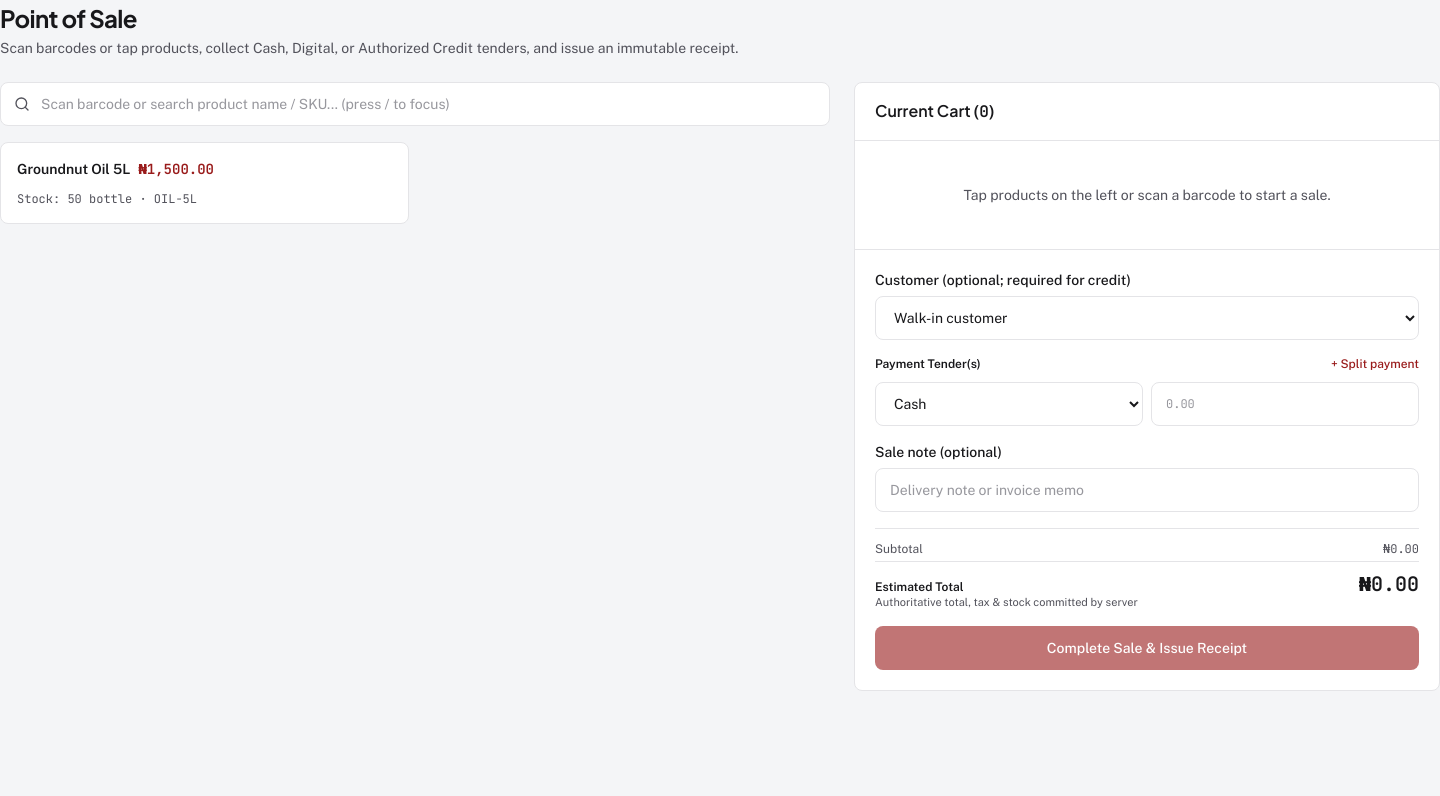
Test case: POS & Sales UI Verification › pins the same Idempotency-Key across a failed checkout retry, shows change due, updates stock live, and displays committed receipt
The image size is (1440, 796).
Expected: the text "Groundnut Oil 5L" is shown, [17, 159, 130, 179]
Expected: the text "Stock: 50 bottle · OIL-5L" is shown, [17, 191, 197, 207]
Add product and set quantity directly to 5
Click the button "Groundnut Oil 5L ₦1,500.00 Stock: 50 bottle · OIL-5L" at coordinates (74, 169), box [0, 142, 409, 224]
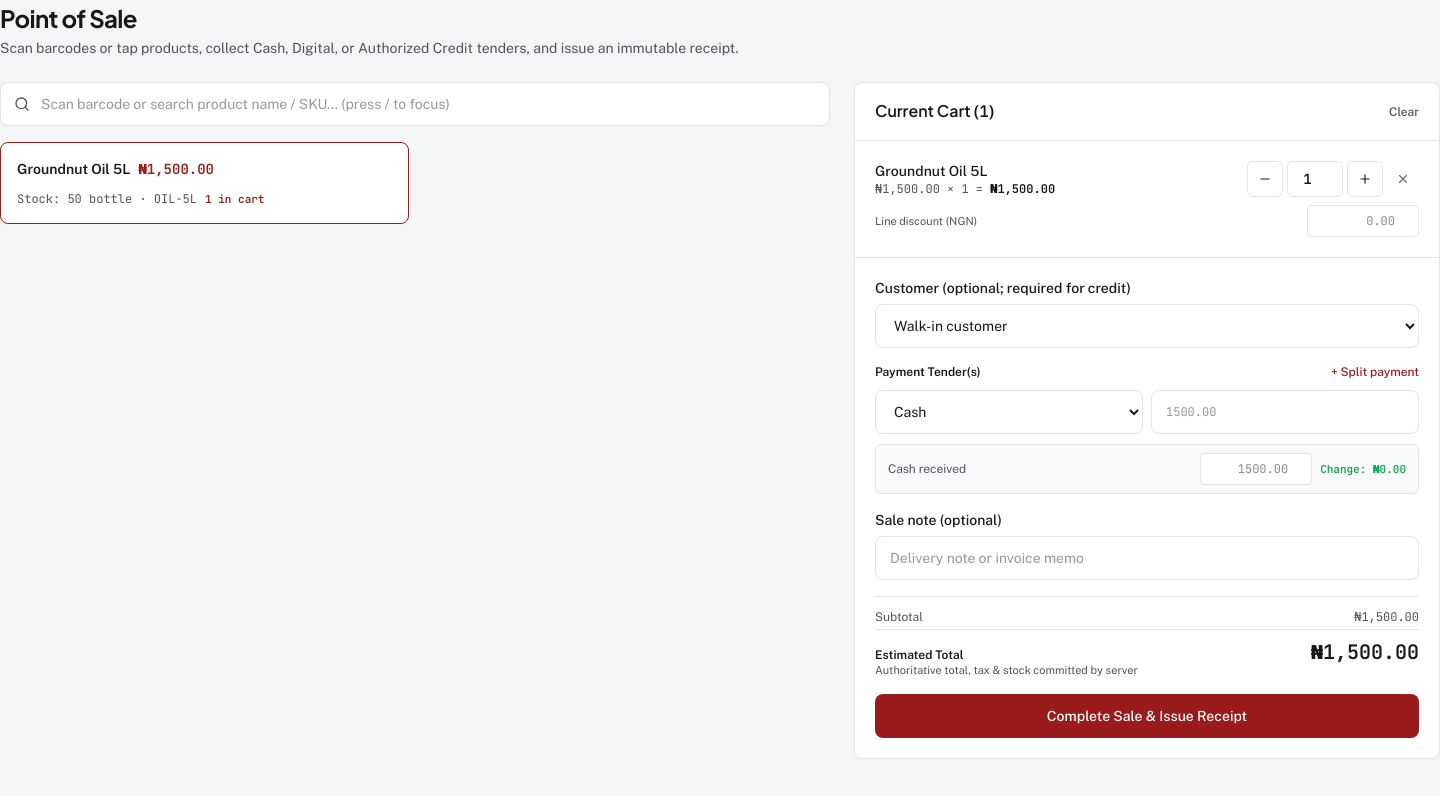
Replace the text in the number field named "Quantity for Groundnut Oil 5L" with "5" at coordinates (1315, 179), box [1287, 161, 1343, 197]
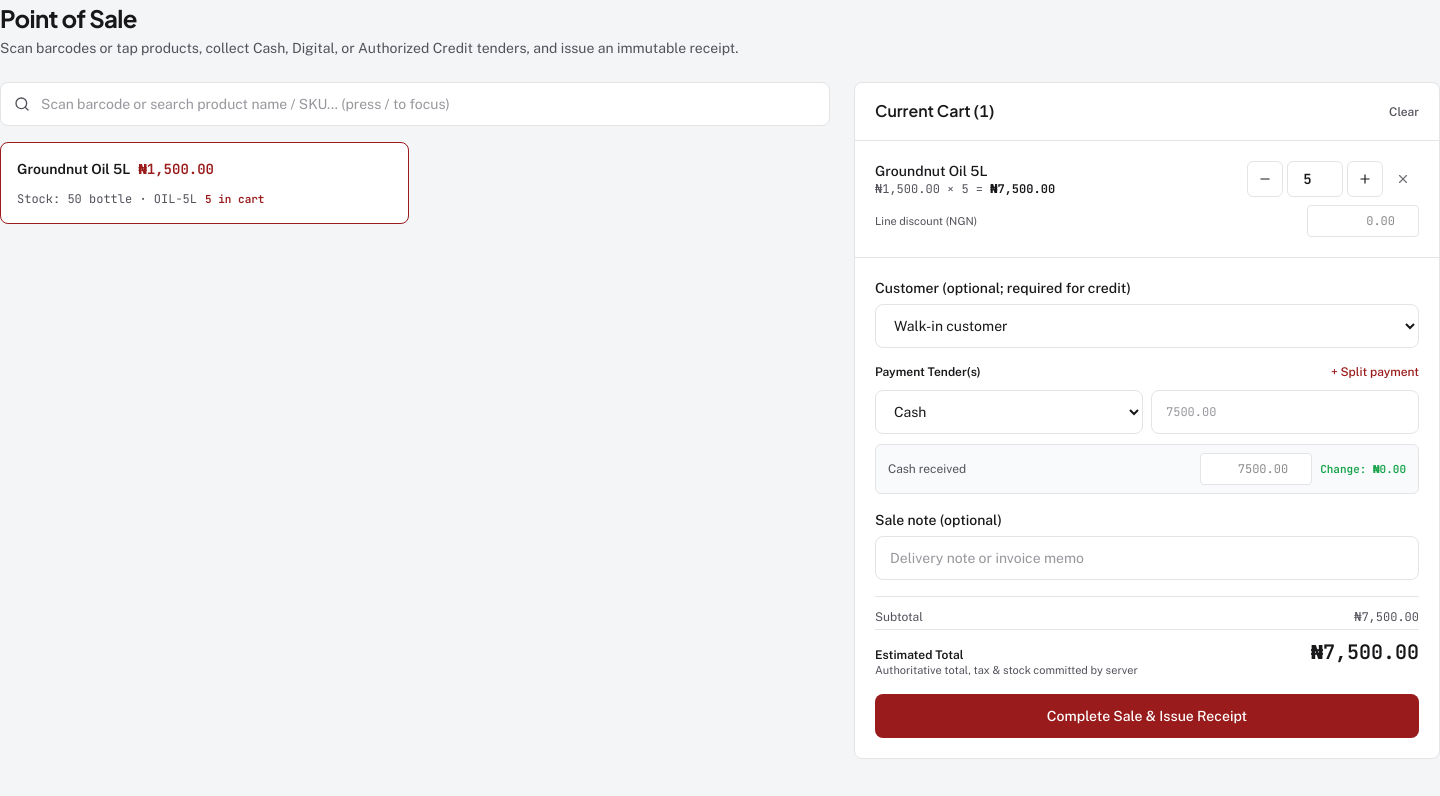
Type "10000" into the number field labelled "Cash received" at coordinates (1256, 469), box [1200, 453, 1312, 485]
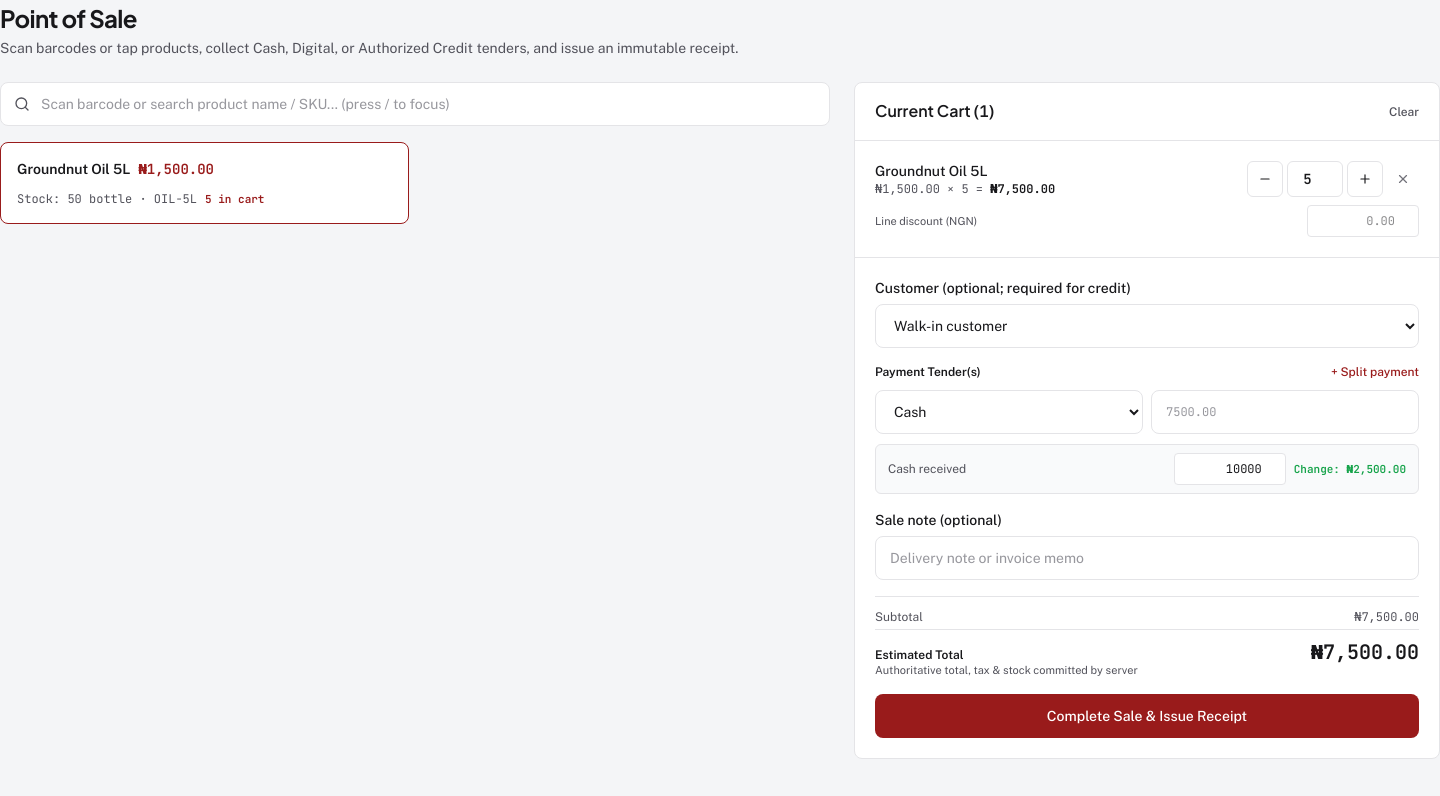
Expected: the text "Change: ₦2,500.00" is shown, [1294, 462, 1406, 476]
First click fails transiently
Click the button "Complete Sale & Issue Receipt" at coordinates (1147, 716), box [875, 694, 1419, 738]
(page scrolled)
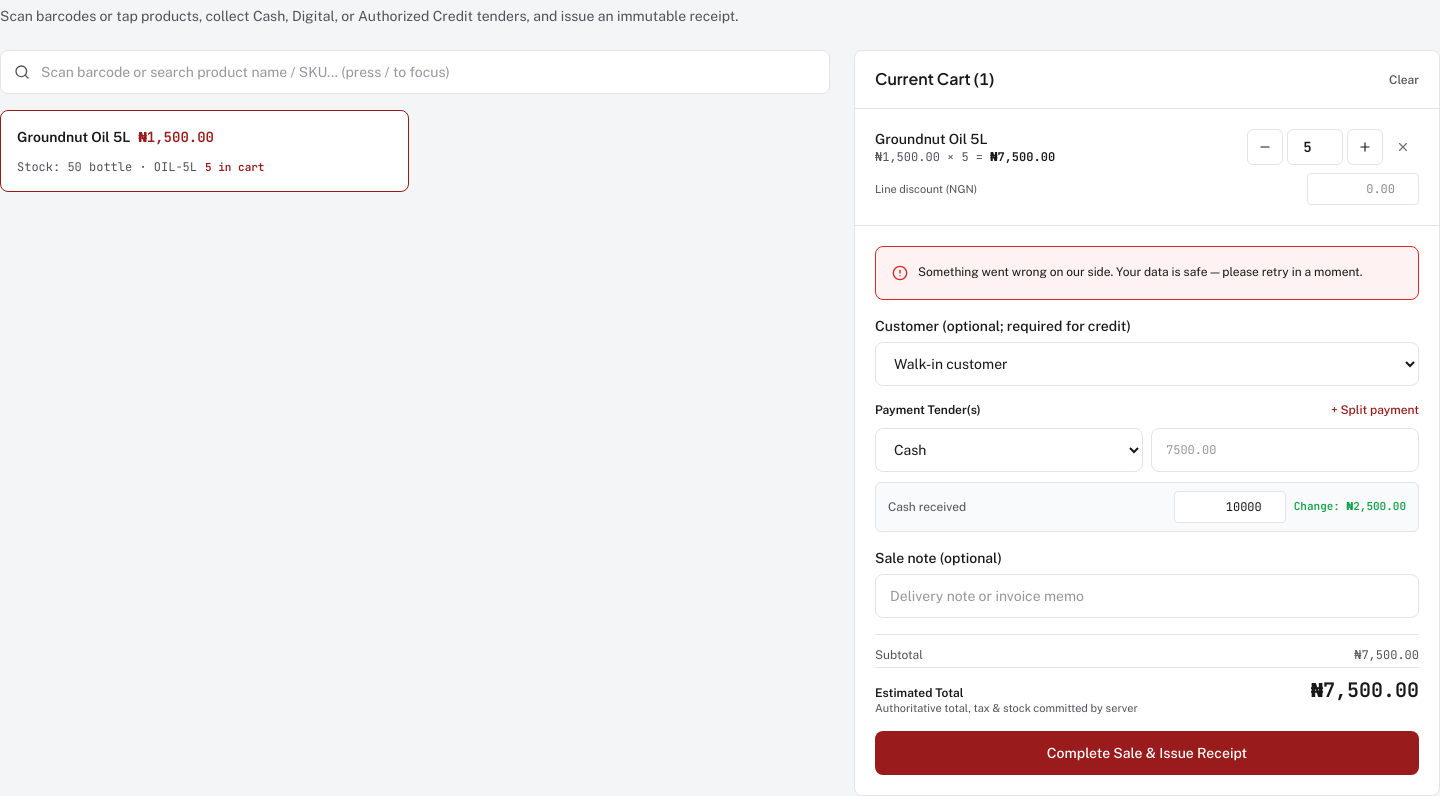
Expected: the text "Something went wrong on our side" is shown, [918, 265, 1362, 279]
Retry click reuses the EXACT same Idempotency-Key
Click the button "Complete Sale & Issue Receipt" at coordinates (1147, 753), box [875, 731, 1419, 775]
(page scrolled)
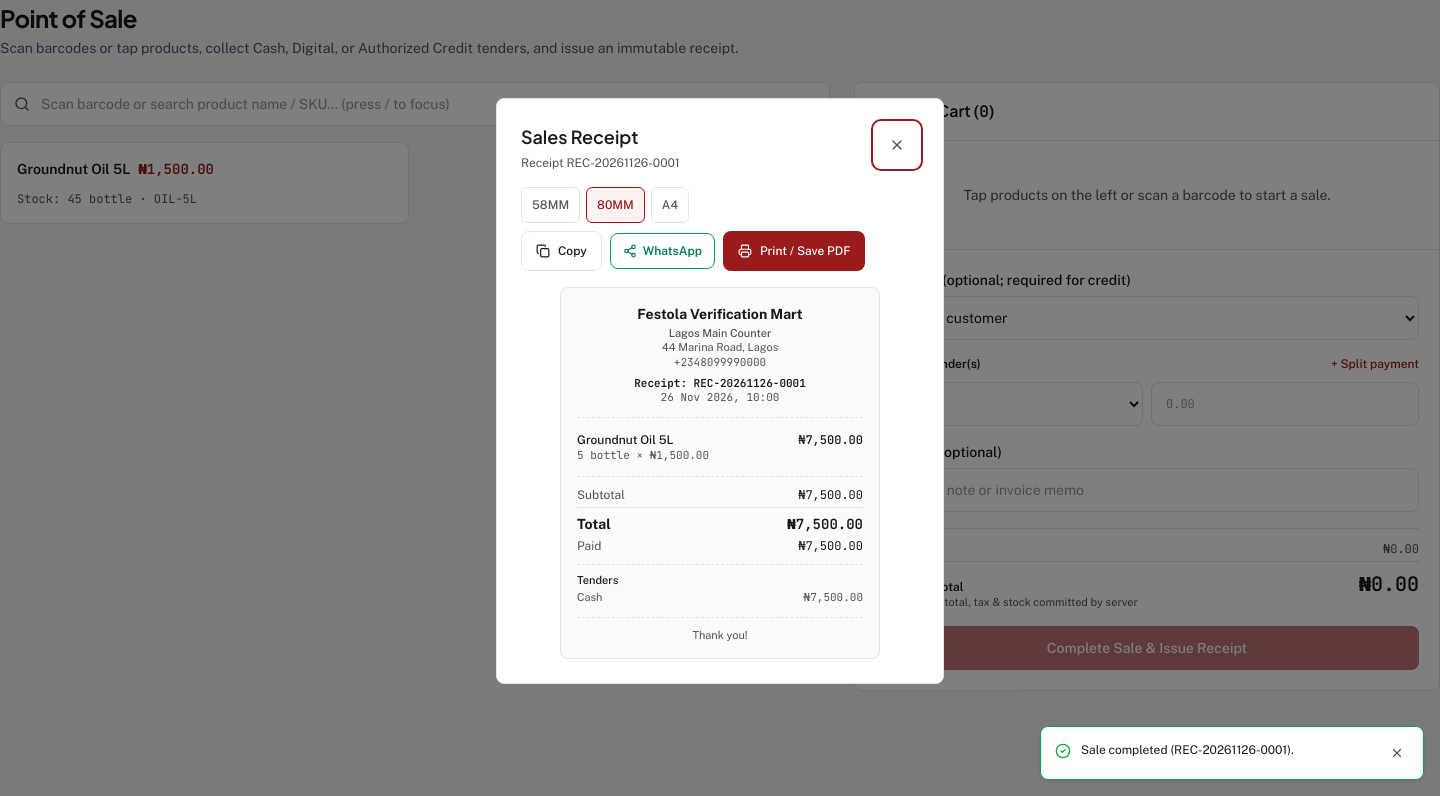
Expected: the text "Receipt: REC-20261126-0001" is shown, [634, 376, 806, 390]
Expected: the text "Stock: 45 bottle · OIL-5L" is shown, [17, 191, 197, 207]
